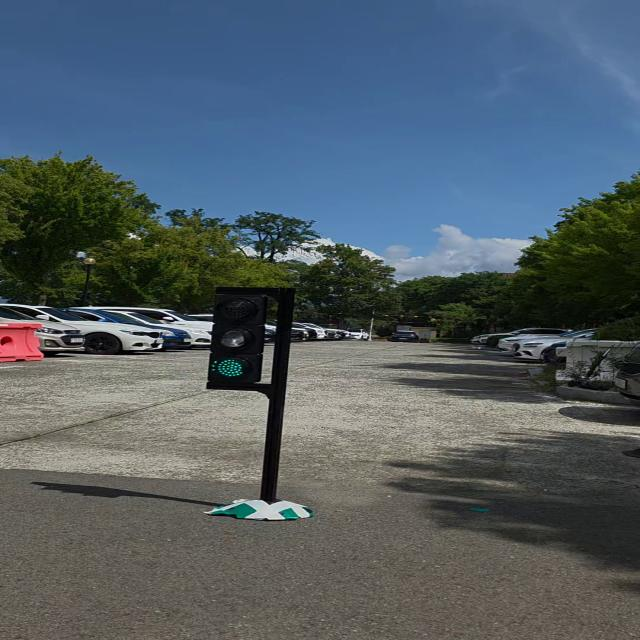green: (207, 285, 267, 389)
